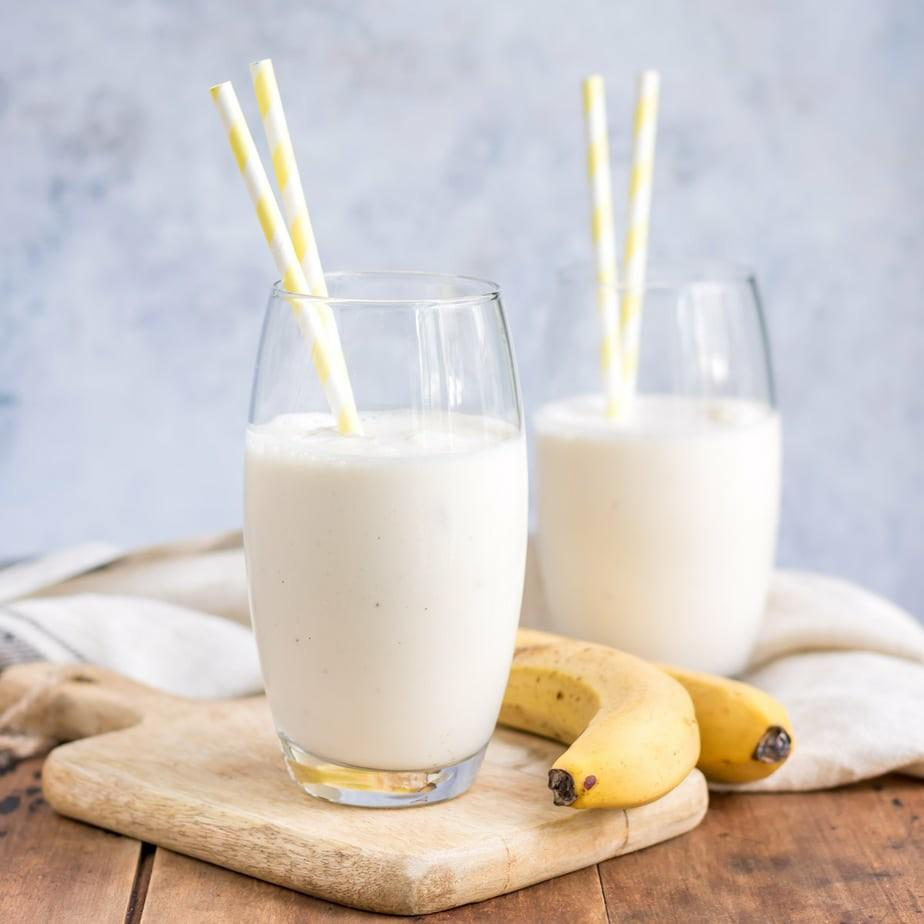Lassi: (242, 413, 531, 769), (532, 392, 783, 676)
